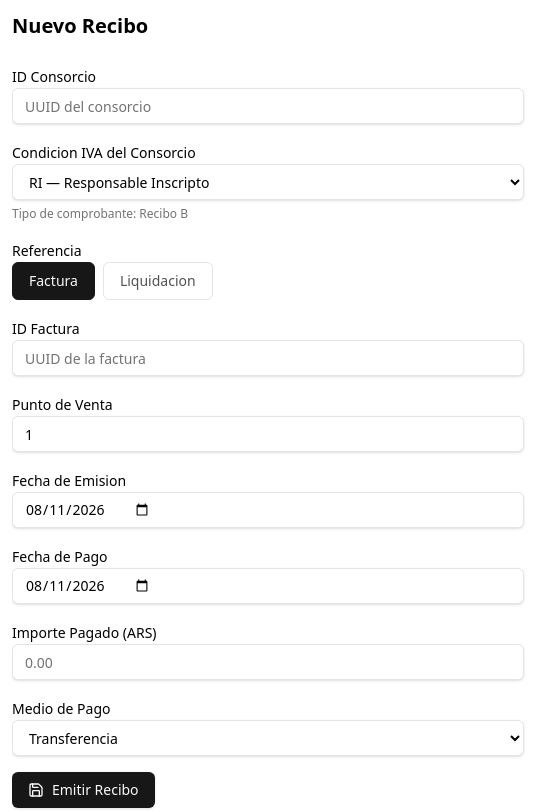
Test: ReciboForm › [@display] renders reference toggle for factura and liquidacion
Expected: the heading "Nuevo Recibo" is shown, [12,12,148,39]
Expected: the button "Factura" is shown, [12,262,95,300]
Click the button "Liquidacion": (158, 281) [103,262,213,300]
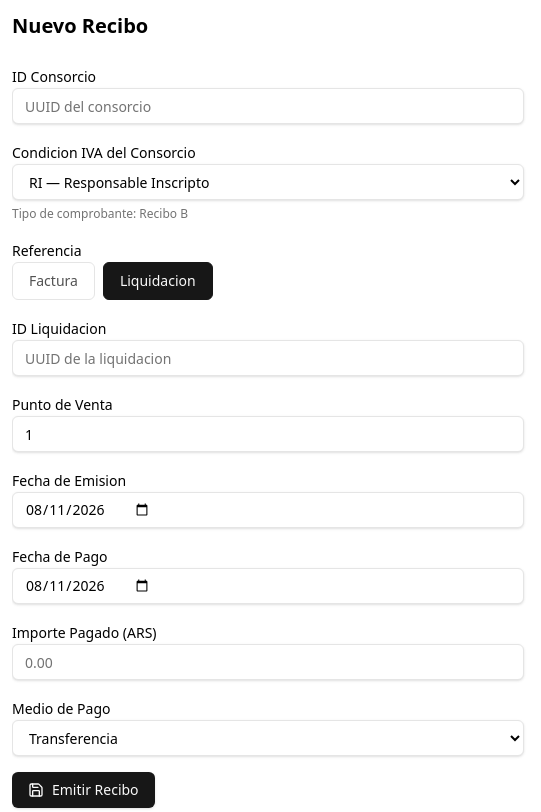
Expected: the field labelled "ID Liquidacion" is shown, [12,340,524,376]
Now the label labelled "ID Factura" is gone
